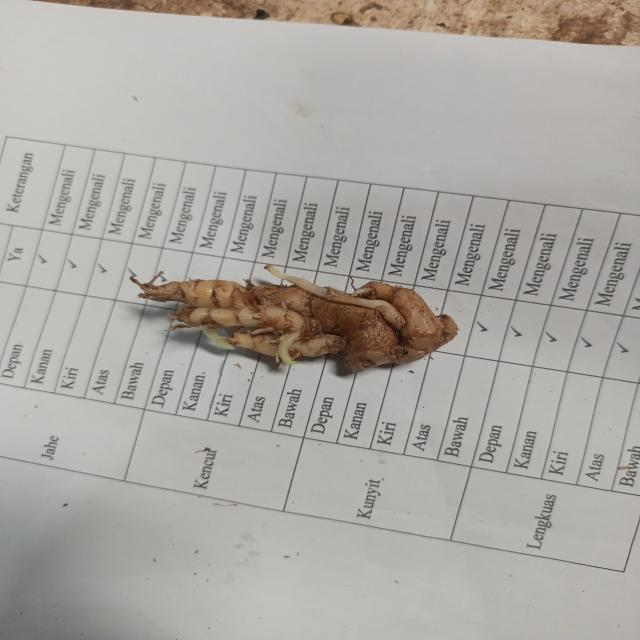ginger: (158, 271, 444, 367)
